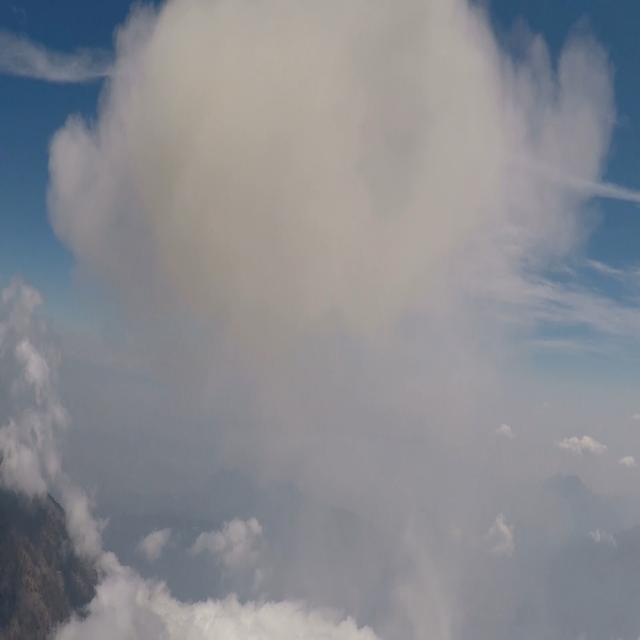Plume: (35, 0, 619, 384)
